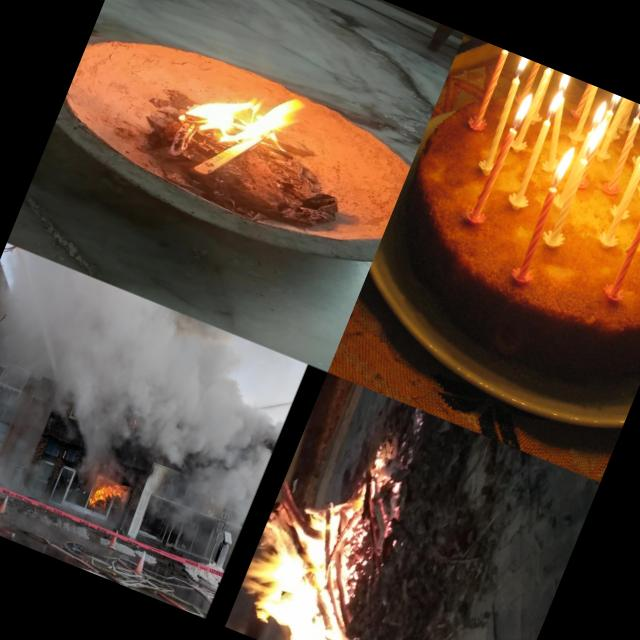fire: (228, 432, 364, 640), (172, 46, 324, 176), (578, 89, 622, 157), (82, 467, 130, 521), (545, 136, 581, 188), (541, 72, 574, 123), (509, 84, 536, 128), (509, 55, 530, 81), (632, 103, 640, 116)
smoke: (0, 241, 192, 500), (104, 355, 290, 545)
